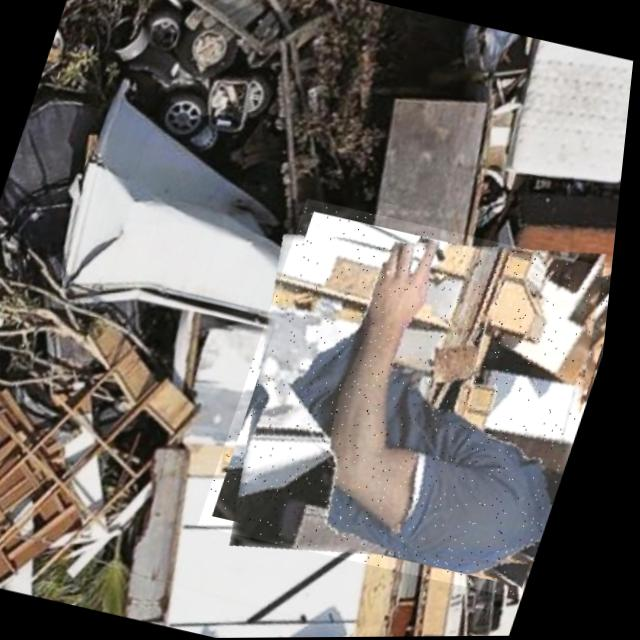Person in Rubble: (201, 196, 624, 602)
